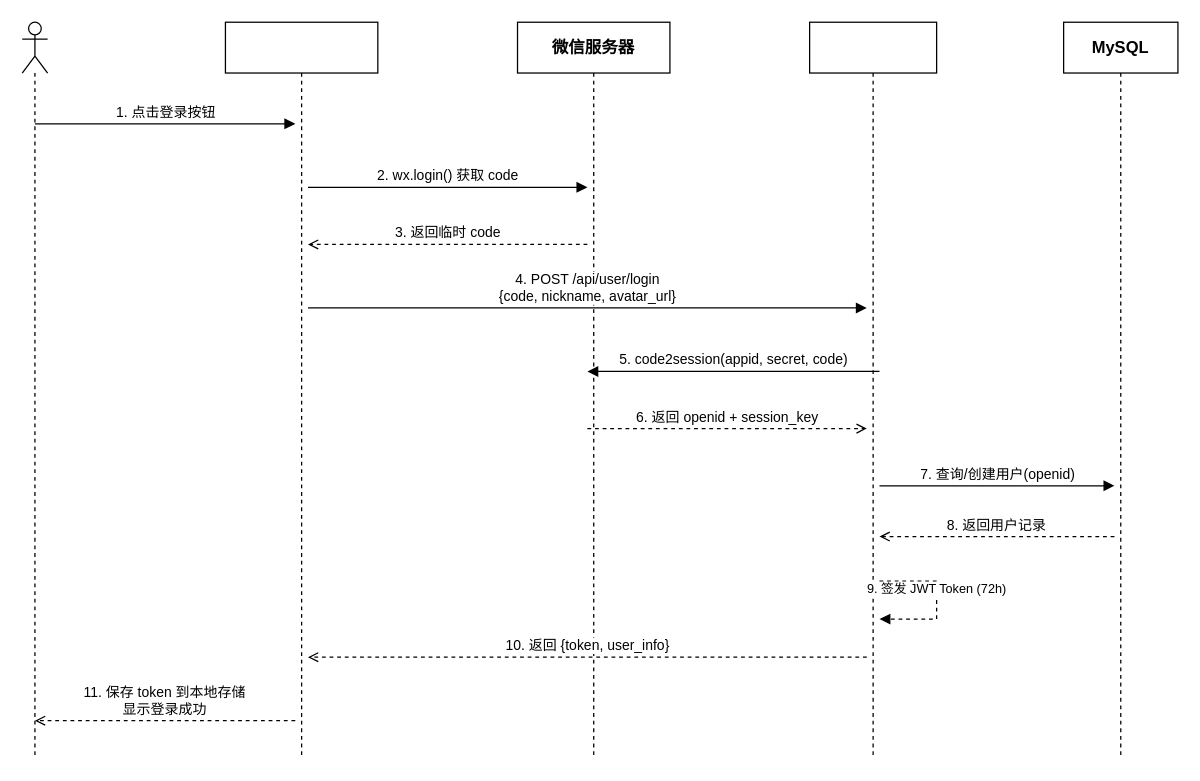
Some shapes in this 1200 by 781 pixel diagram are drawn without their labels. The box of each missing label's shape, as (x1, y1, x2, y2) in pixels:
FastAPI 后端: (808, 21, 937, 759)
微信小程序: (224, 21, 378, 759)
